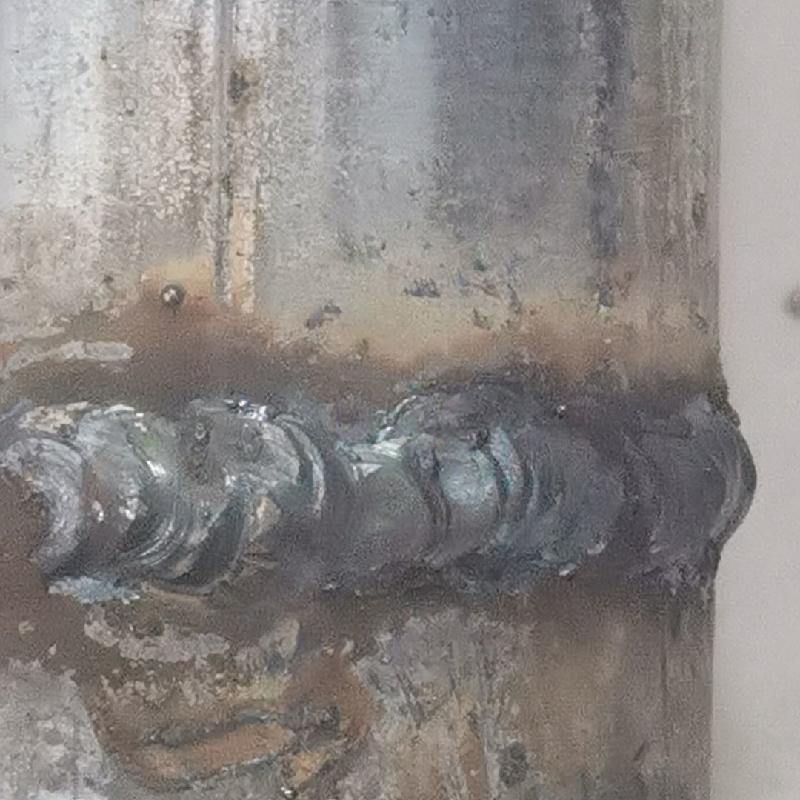good: (2, 379, 759, 609)
